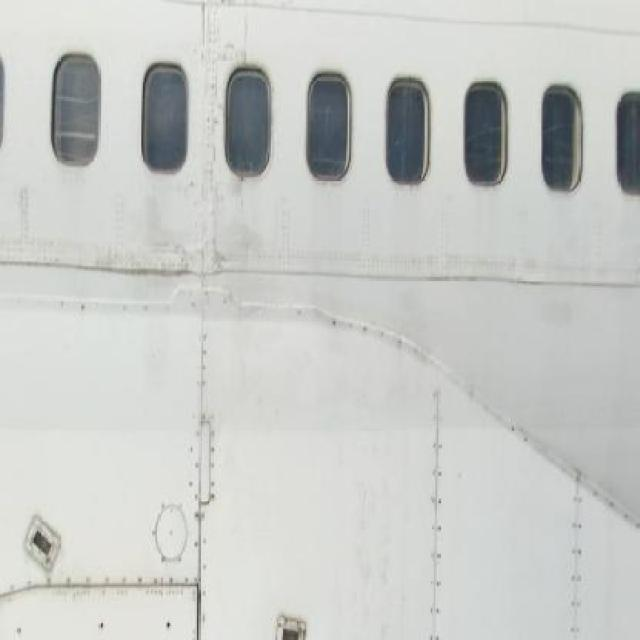Missing-Rivet: (176, 332, 218, 640), (419, 380, 450, 640), (7, 556, 178, 602), (564, 452, 591, 640)
